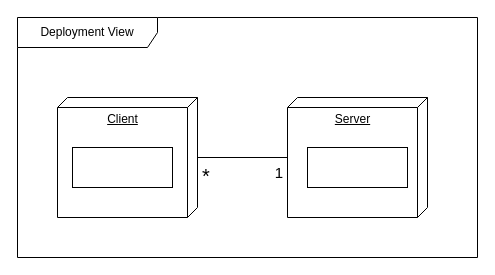
The diagram is 495 pixels wide and 275 high, and some of its shapes have lost their labels. Each missing label, with the centre of its shape:
Database: the point at 357,167
Phone App (Flutter): the point at 122,167
